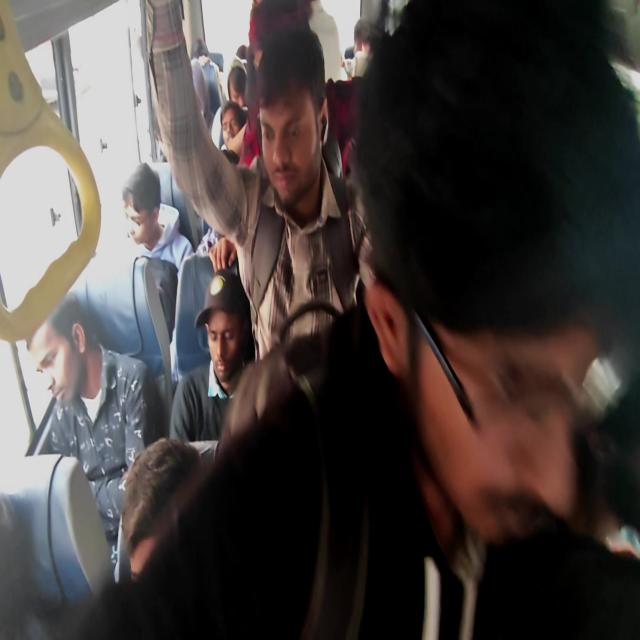person: (409, 289, 601, 553), (117, 436, 203, 586), (0, 476, 48, 634), (24, 293, 90, 407), (259, 80, 319, 200), (196, 266, 252, 386), (121, 164, 165, 249), (199, 156, 237, 252), (190, 39, 222, 126), (146, 93, 164, 164), (227, 60, 248, 108), (353, 18, 372, 55), (251, 36, 264, 69), (190, 38, 208, 59), (235, 44, 248, 62)
